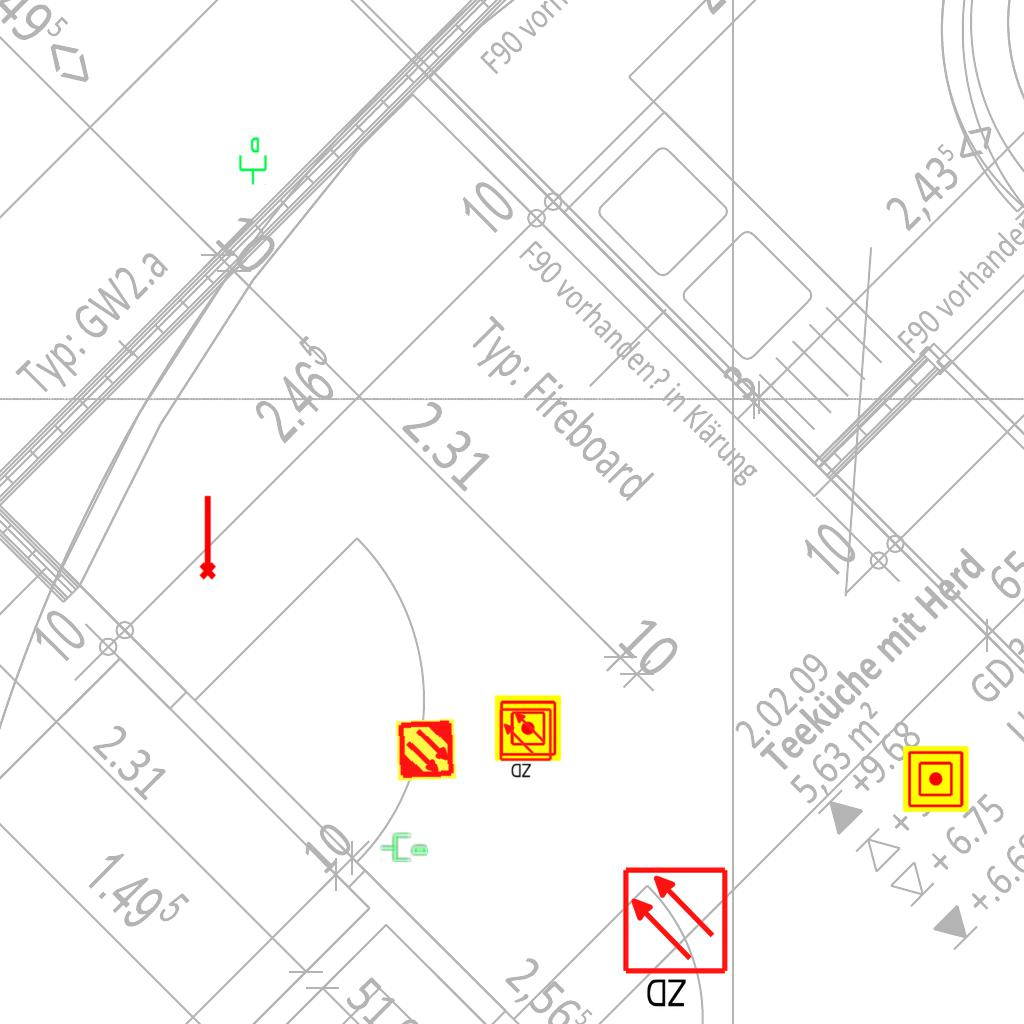ASR_Ansaugoeffnung: (195, 493, 218, 581)
ASR_Ansaugrauchmelder: (393, 717, 459, 783)
Datenanschluss_einfach: (379, 830, 429, 864), (235, 136, 269, 186)
NAM-Nichtautomatischer_Melder: (495, 695, 561, 761), (903, 746, 969, 812)
ZD_Melder_in_Zwischendecke_mit_Revisionsoeffnung_mind_40_x_40_cm: (620, 865, 734, 1014), (498, 707, 555, 781)
